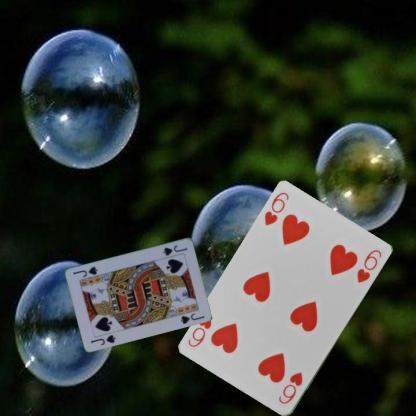6h: (275, 369, 304, 406), (262, 190, 290, 228)
Js: (160, 242, 188, 260), (88, 332, 117, 346)
